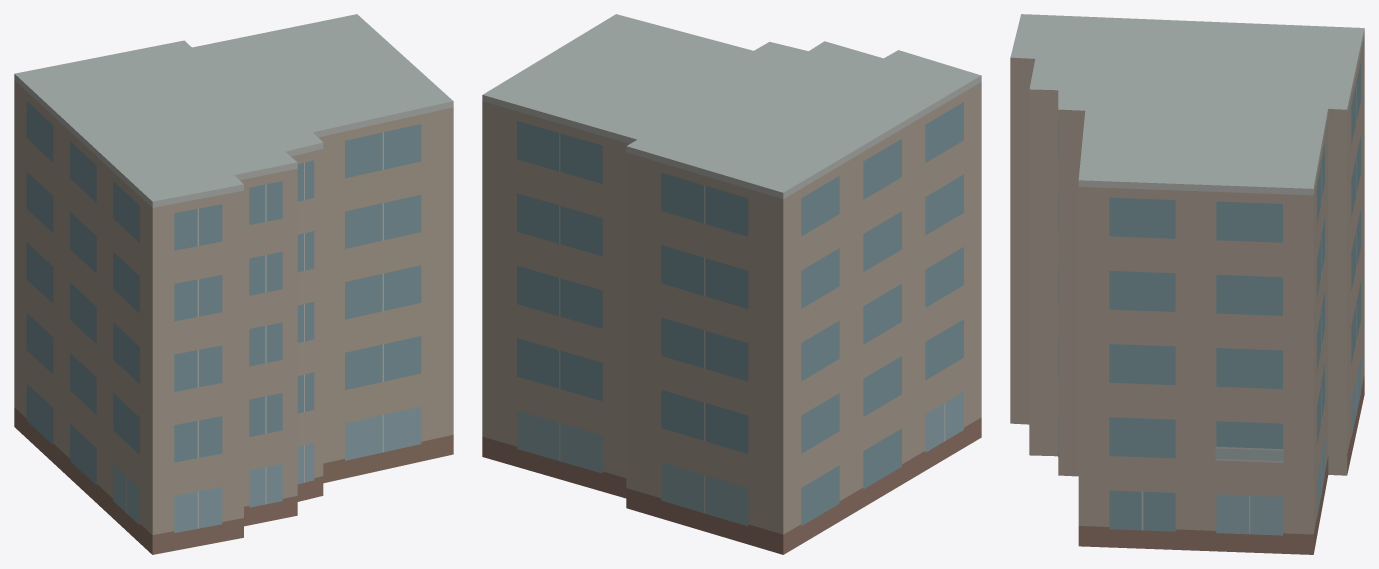
File: survey-upis-32757389.glb
The picture shows the model from 3 angles, left to right: view 1: azimuth 30°, elevation 25°; view 2: azimuth 150°, elevation 25°; view 3: azimuth 270°, elevation 25°; orthographic projection. The views are drawn at different scales.
Visible parts, largest first — view 1: survey-upis-32757389.tmp; view 2: survey-upis-32757389.tmp; view 3: survey-upis-32757389.tmp.
Boxes of the visible parts, bbox=[...] form: survey-upis-32757389.tmp: bbox=[14, 14, 453, 554]; survey-upis-32757389.tmp: bbox=[482, 14, 981, 554]; survey-upis-32757389.tmp: bbox=[1010, 14, 1364, 554].
Bounding box in the file's own units: 14.1 × 13.75 × 12.07.
